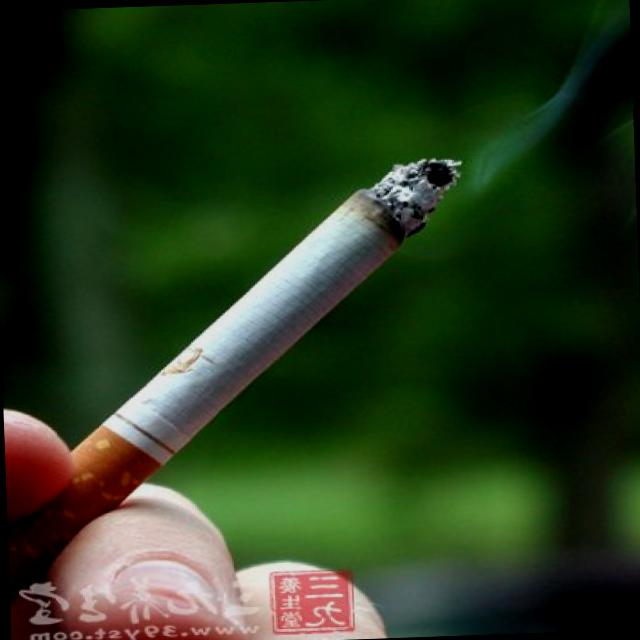smoke: (57, 150, 478, 466)
